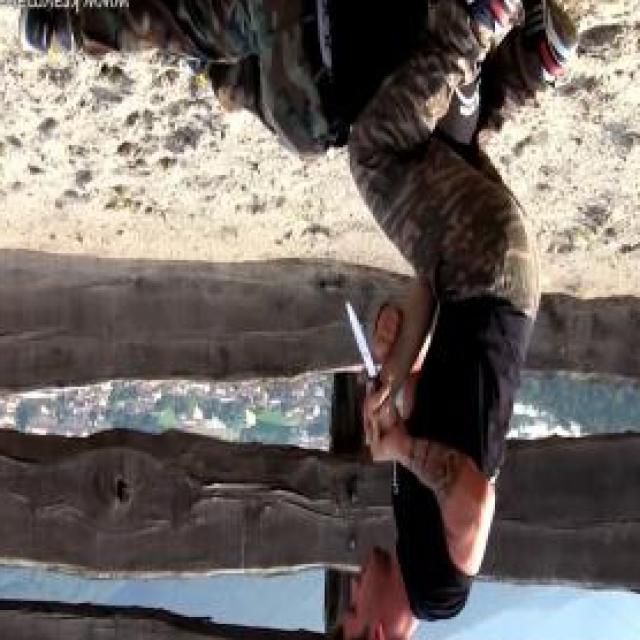knife: (339, 290, 392, 419)
